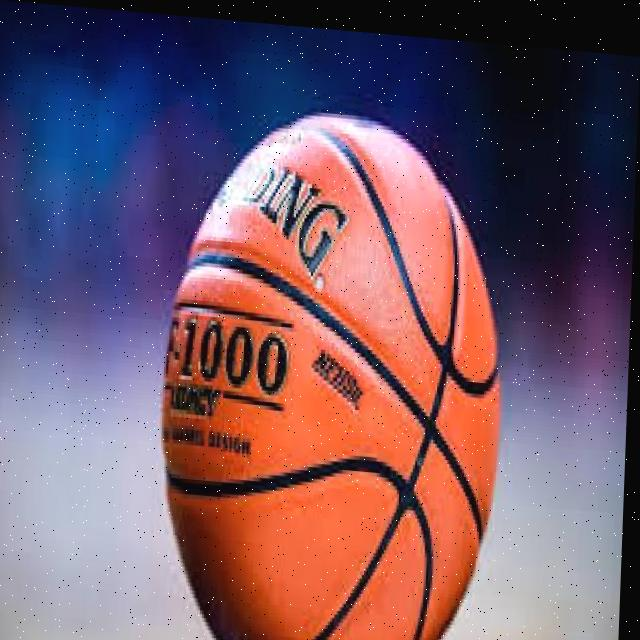Basketball: (154, 99, 512, 640)
